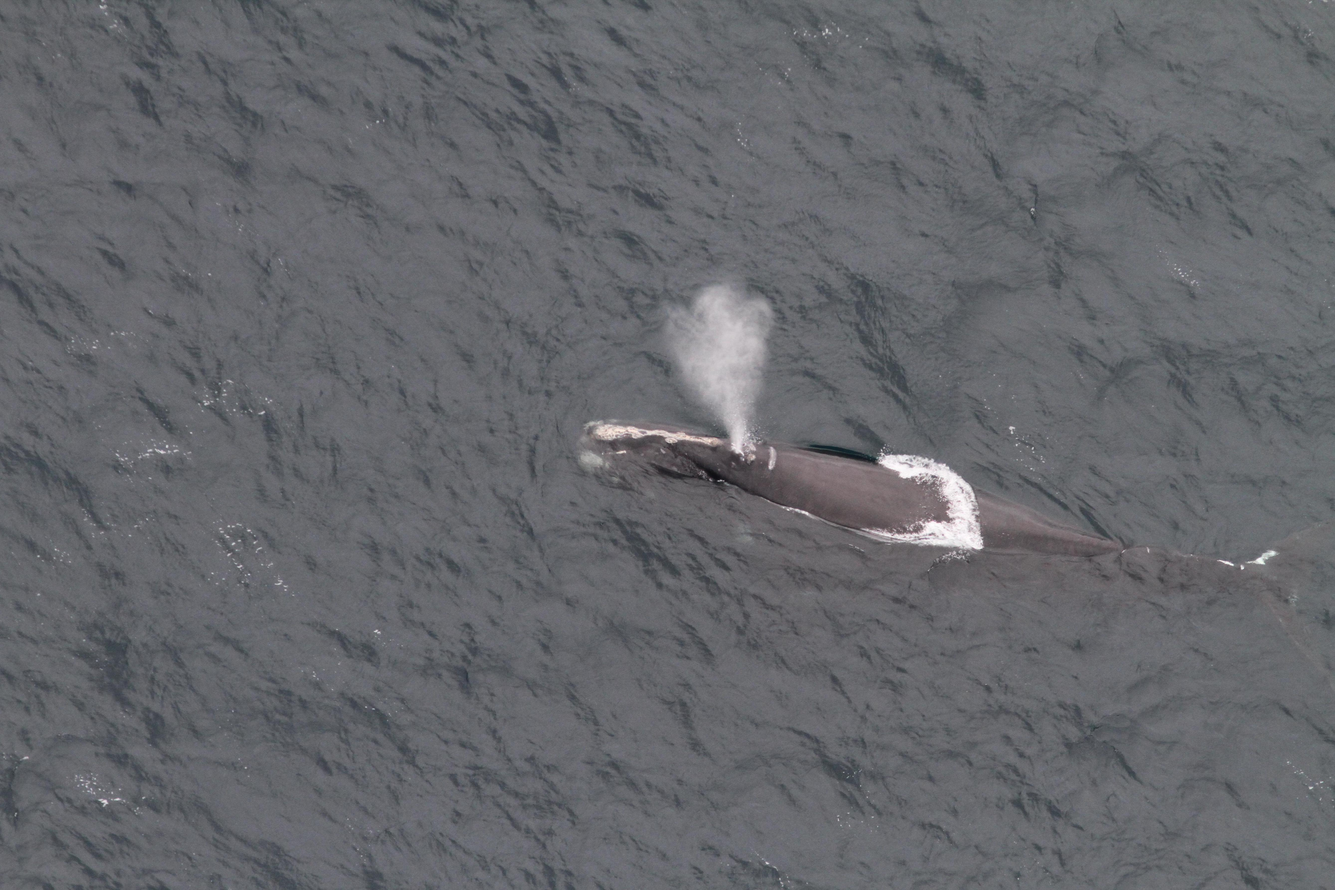whale: (569, 403, 1335, 686)
